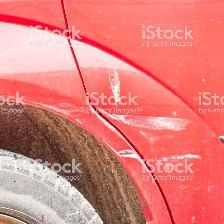scrach: (97, 105, 134, 123)
